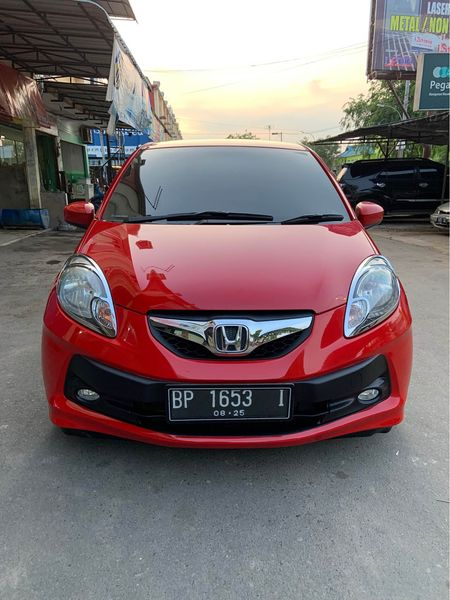plate: (165, 385, 293, 424)
